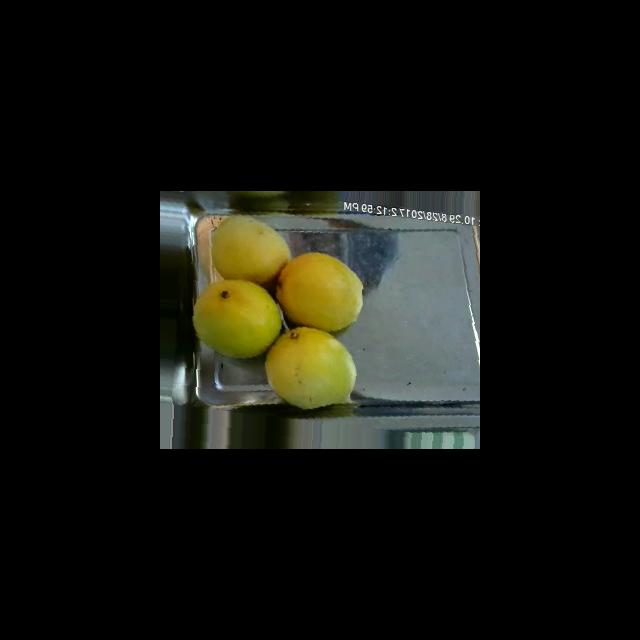mango: (264, 326, 356, 409), (275, 251, 363, 332), (192, 279, 281, 358), (210, 213, 290, 284)
